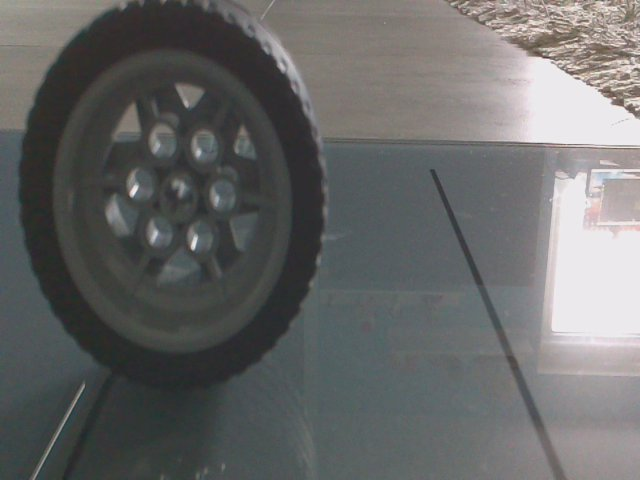Rad: (16, 3, 328, 389)
